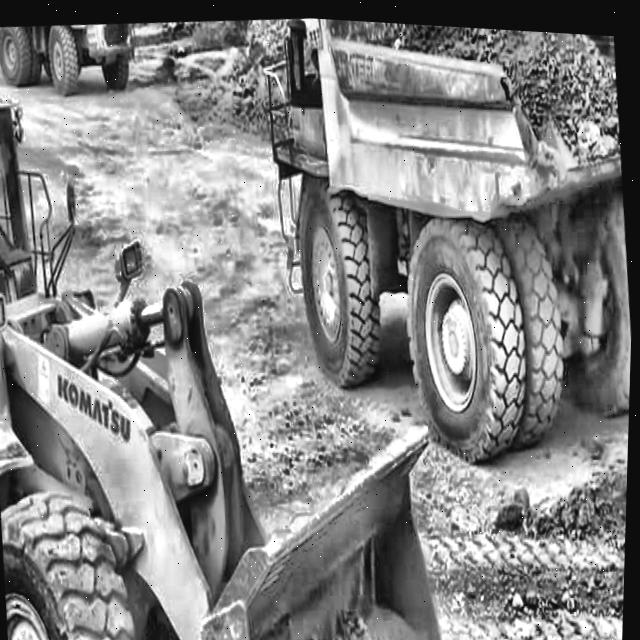buldozerpayloadergrader: (0, 18, 498, 640)
dump_truck: (257, 12, 640, 479), (0, 14, 148, 101)
